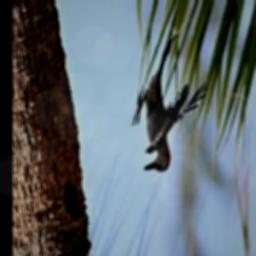Woodpecker: (131, 35, 207, 171)
